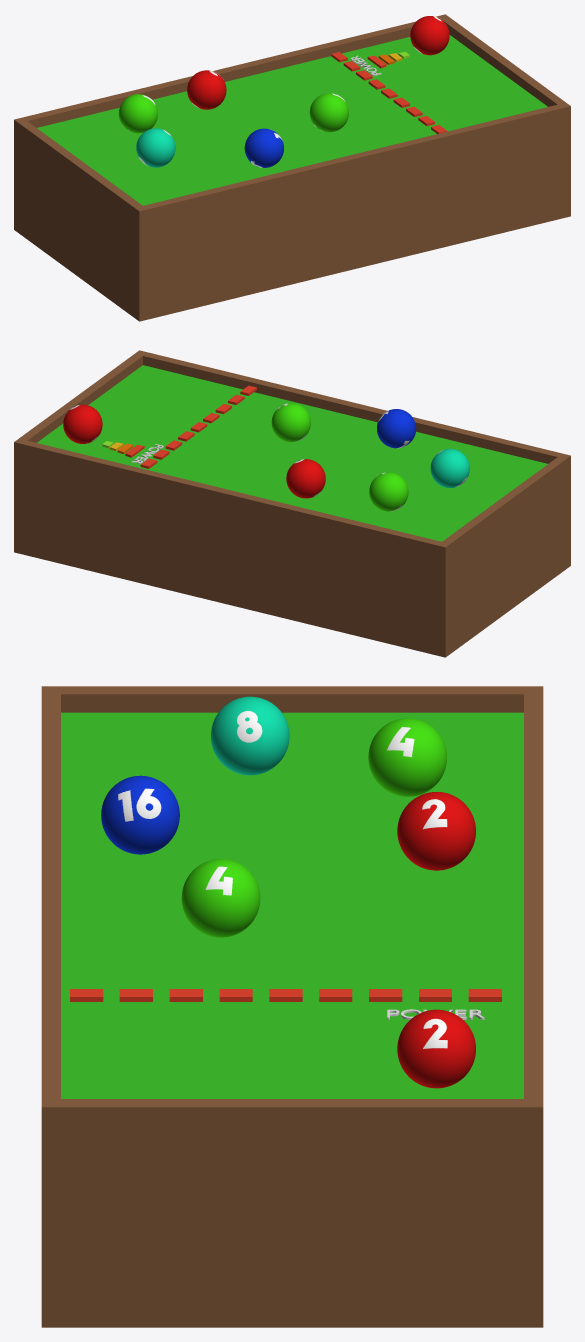
File: 2048pool.fbx
3 renders of one model, top to bottom at view 1: azimuth 30°, elevation 25°; view 2: azimuth 150°, elevation 25°; view 3: azimuth 270°, elevation 25°, orthographic. The views are drawn at different scales.
Visible parts, largest first — view 1: Table, Cube.002, Cube.001, Cube, Cube.005, Cube.004, Cube.003; view 2: Table, Cube.003, Cube.001, Cube.005, Cube, Cube.004, Cube.002; view 3: Table, Cube.005, Cube, Cube.004, Cube.002, Cube.003, Cube.001.
Part boxes in pixels (box(x1,y1,x2,y2)): Table: box(14, 14, 570, 321); Cube.002: box(136, 128, 175, 167); Cube.001: box(187, 70, 226, 109); Cube: box(410, 16, 449, 55); Cube.005: box(309, 93, 348, 132); Cube.004: box(244, 128, 283, 167); Cube.003: box(118, 94, 157, 133); Table: box(14, 350, 570, 657); Cube.003: box(369, 472, 408, 511); Cube.001: box(286, 459, 325, 498); Cube.005: box(271, 403, 310, 442); Cube: box(63, 404, 102, 443); Cube.004: box(377, 409, 416, 448); Cube.002: box(430, 448, 469, 488); Table: box(41, 686, 543, 1327); Cube.005: box(181, 859, 260, 937); Cube: box(397, 1009, 475, 1088); Cube.004: box(101, 775, 179, 854); Cube.002: box(211, 696, 289, 775); Cube.003: box(368, 718, 446, 796); Cube.001: box(397, 792, 475, 870).
Size of the model in its own units: 360 by 109 by 181.
